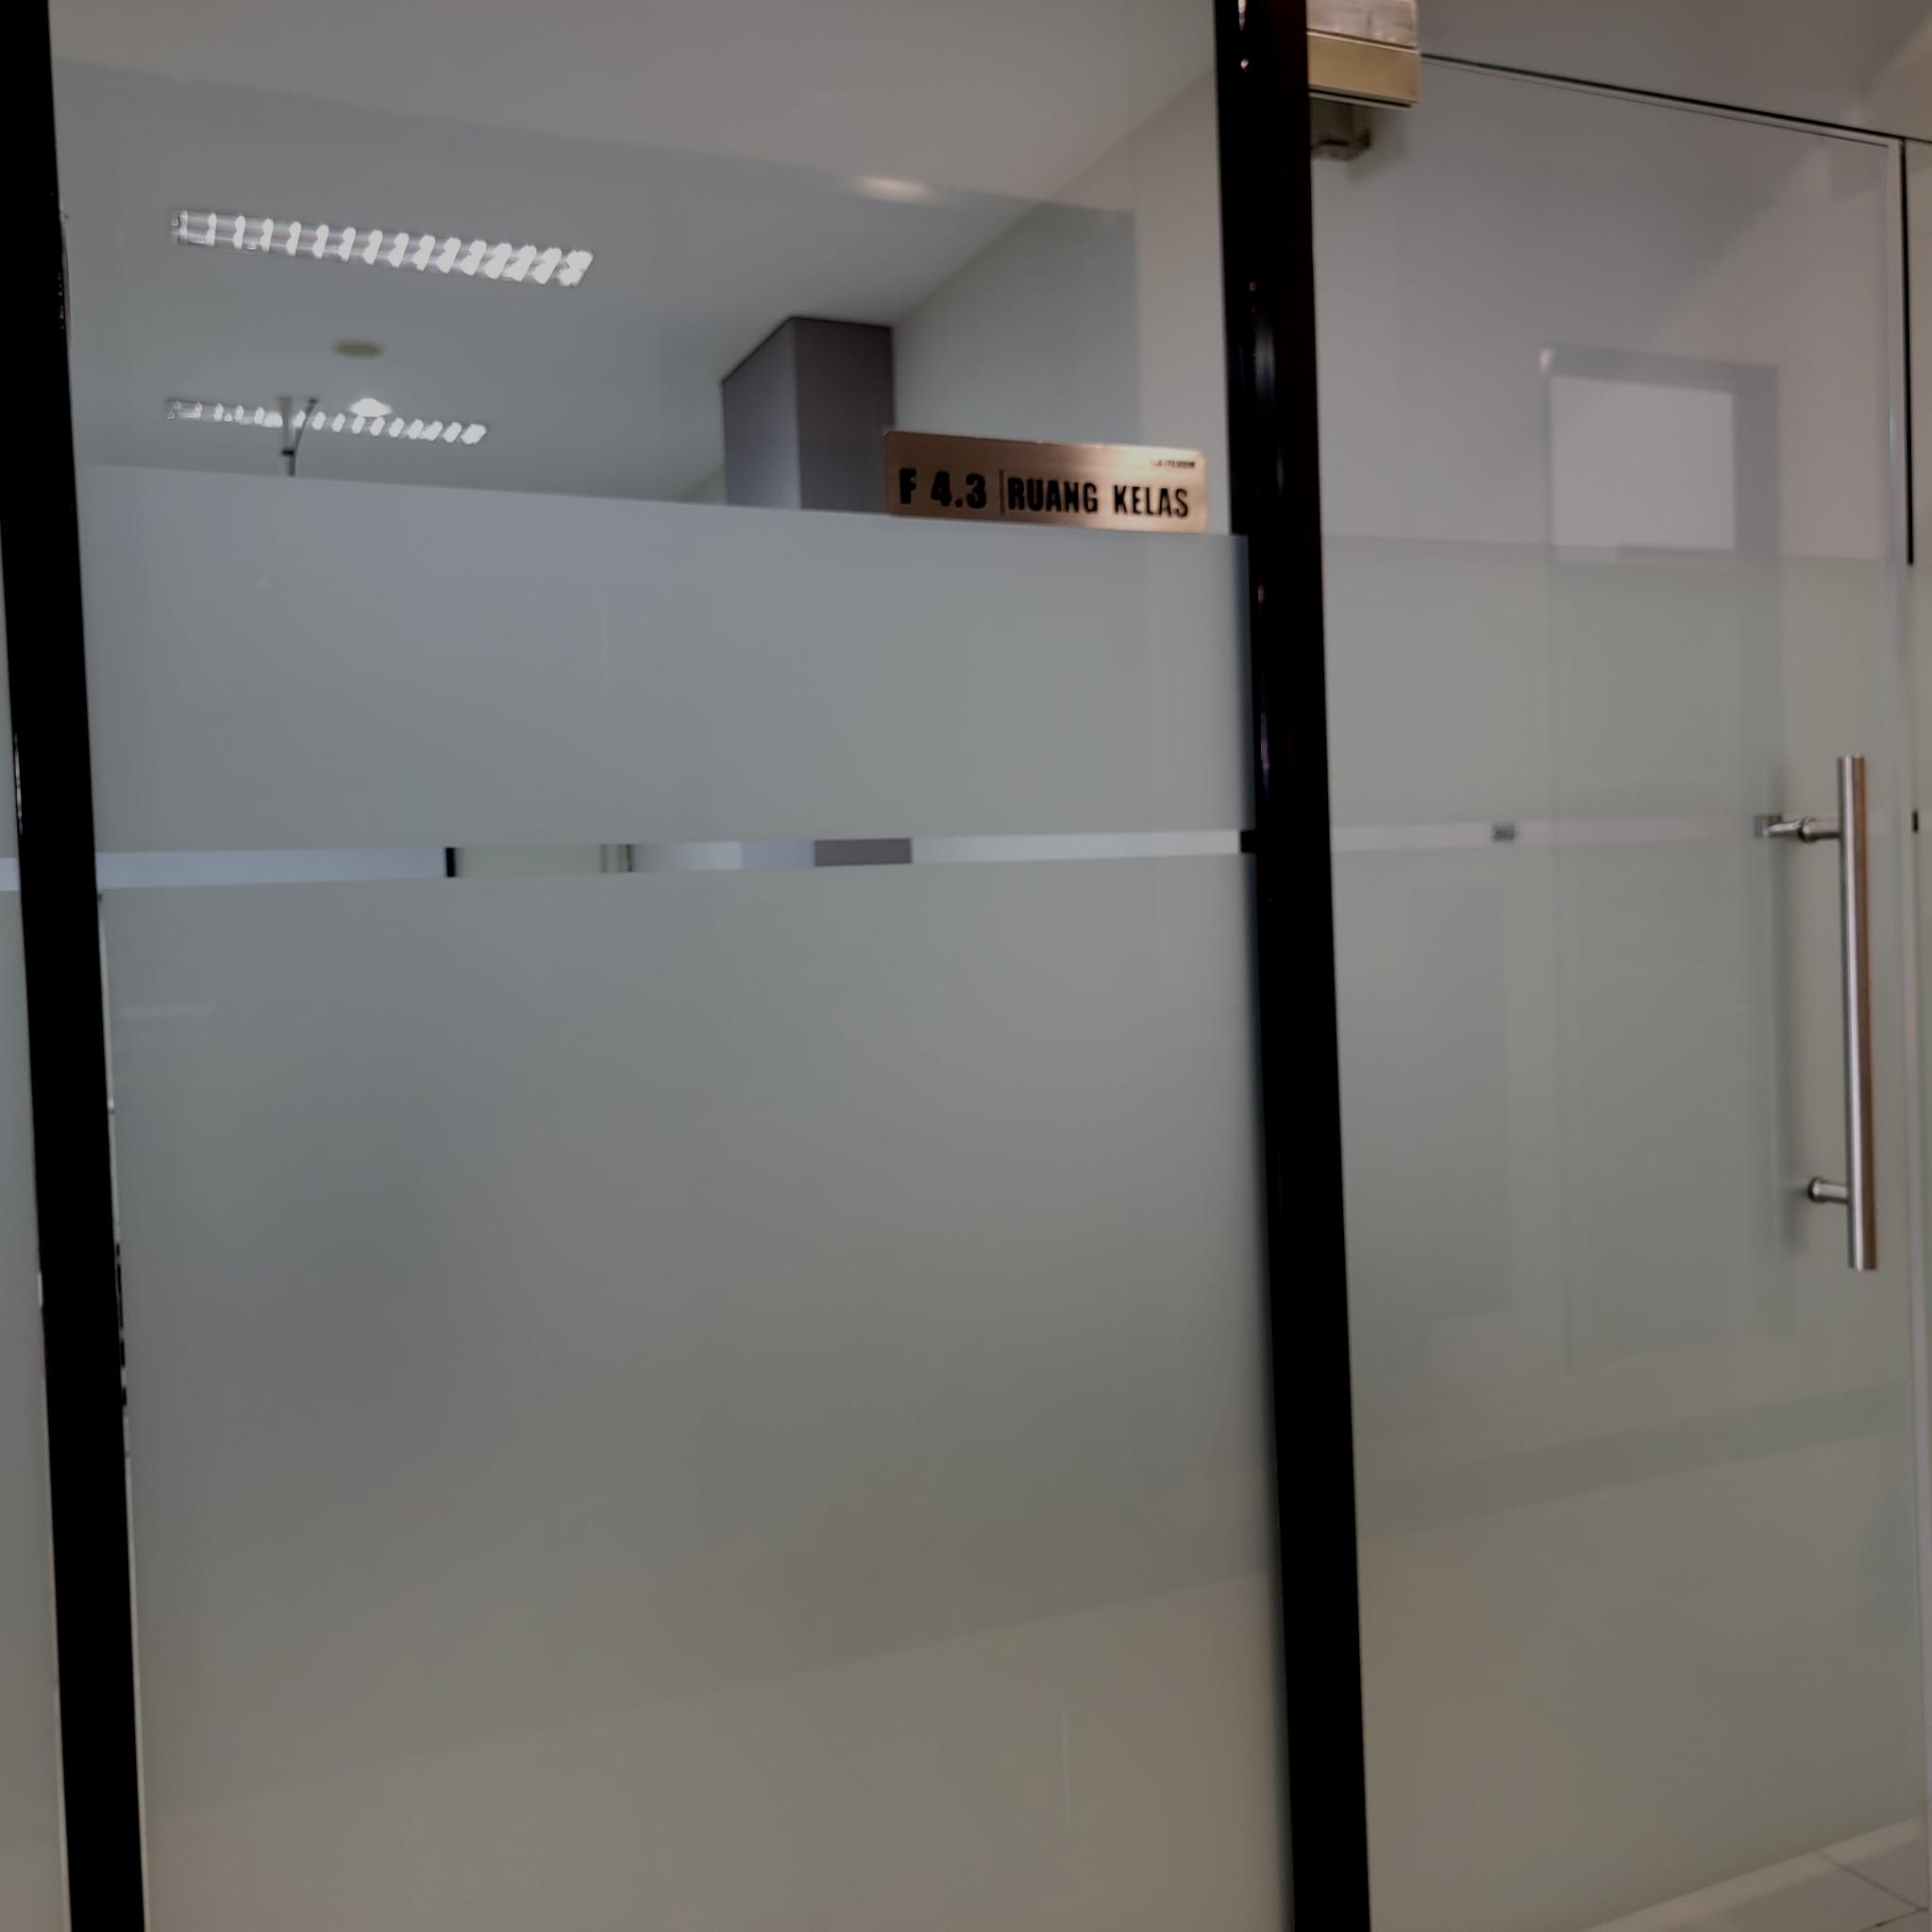plate: (879, 430, 1207, 534)
